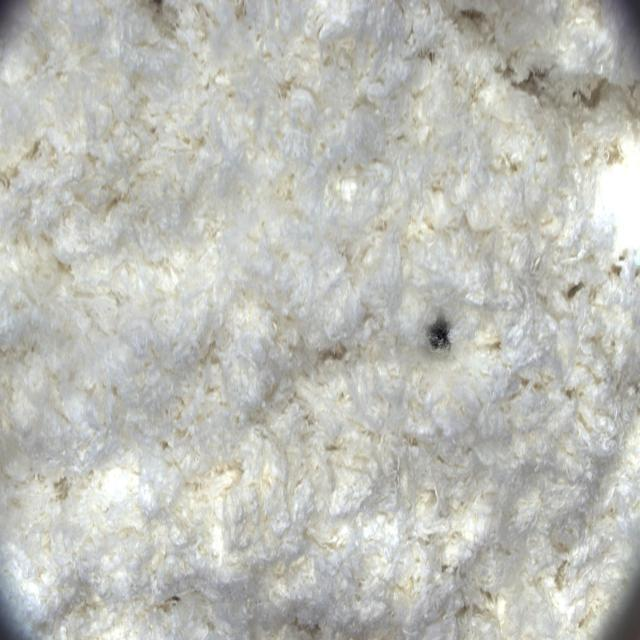dust: (417, 297, 467, 374)
